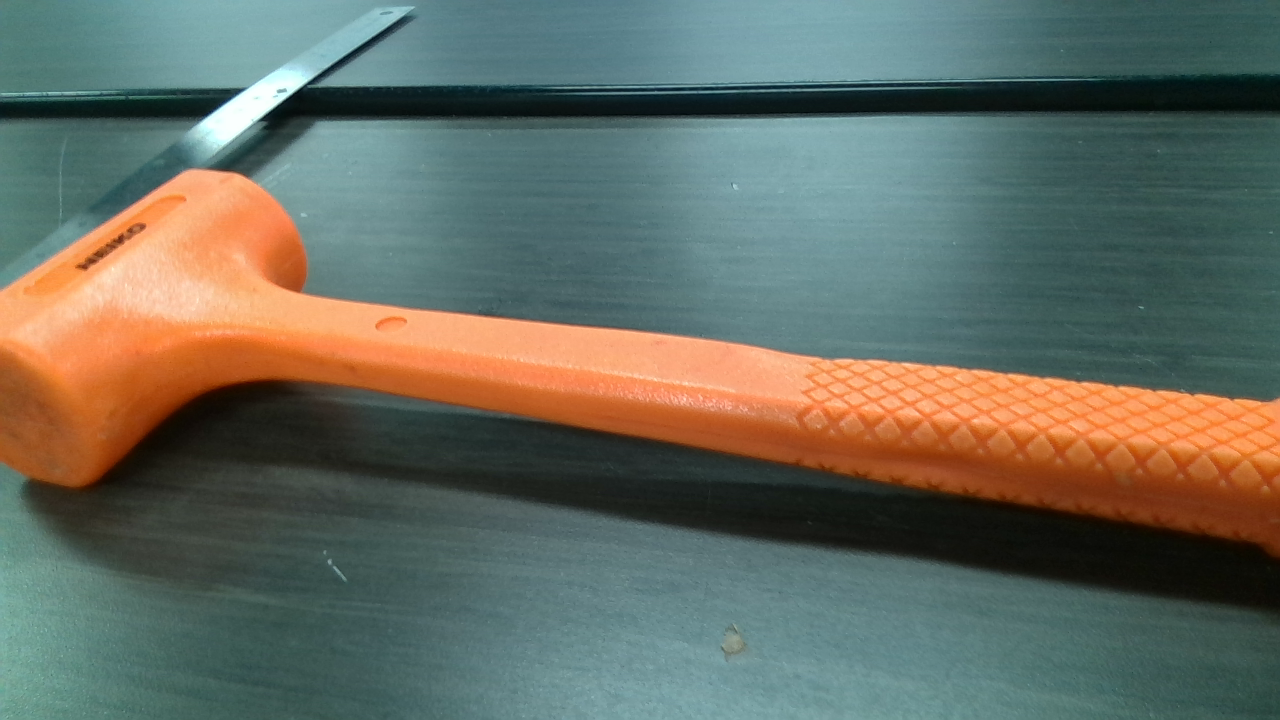Orange Hammer: (0, 166, 1280, 551)
